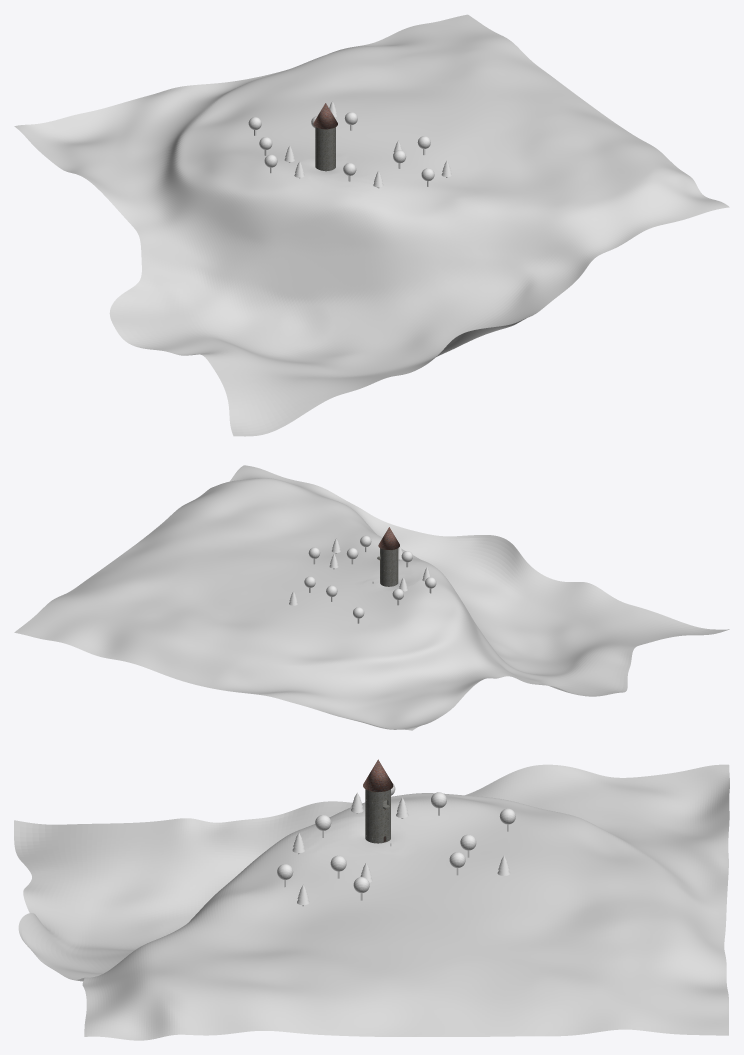
Rendered from Blockout Poprawiony final +tekstury_koniec.fbx.
3 renders of one model, top to bottom at view 1: azimuth 30°, elevation 25°; view 2: azimuth 150°, elevation 25°; view 3: azimuth 270°, elevation 25°, orthographic. The views are drawn at different scales.
Visible parts, largest first — view 1: Plane; view 2: Plane; view 3: Plane, Cone.006, Cylinder.
Boxes of the visible parts, bbox=[...] form: Plane: bbox=[14, 14, 729, 436]; Plane: bbox=[14, 465, 729, 730]; Plane: bbox=[14, 764, 729, 1040]; Cone.006: bbox=[363, 759, 393, 791]; Cylinder: bbox=[365, 821, 390, 842].
Bounding box in the file's own units: 46271 × 14813 × 44419.
Materials: 49 (31 with a texture image).
